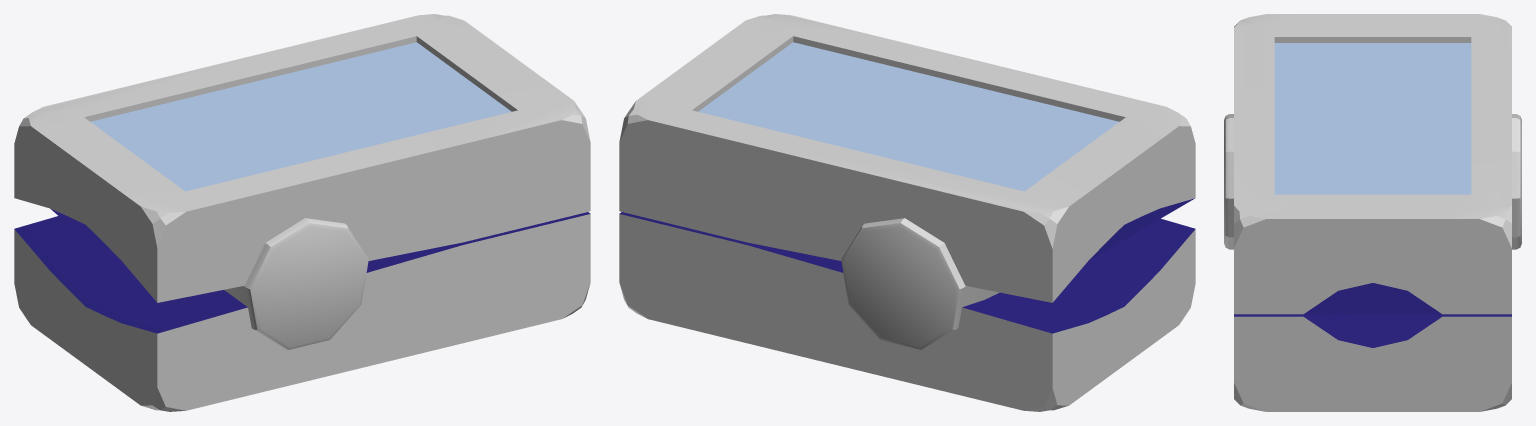
The model's file is oximetro.fbx.
The picture shows the model from 3 angles, left to right: view 1: azimuth 30°, elevation 25°; view 2: azimuth 150°, elevation 25°; view 3: azimuth 270°, elevation 25°; orthographic projection. The views are drawn at different scales.
Visible parts, largest first — view 1: Cylinder; view 2: Cylinder; view 3: Cylinder.
Part boxes in pixels (x1,y1,x2,y2): Cylinder: (14,14,590,411); Cylinder: (619,14,1195,411); Cylinder: (1224,14,1521,411).
Size of the model in its own units: 3 by 1.32 by 1.84.
